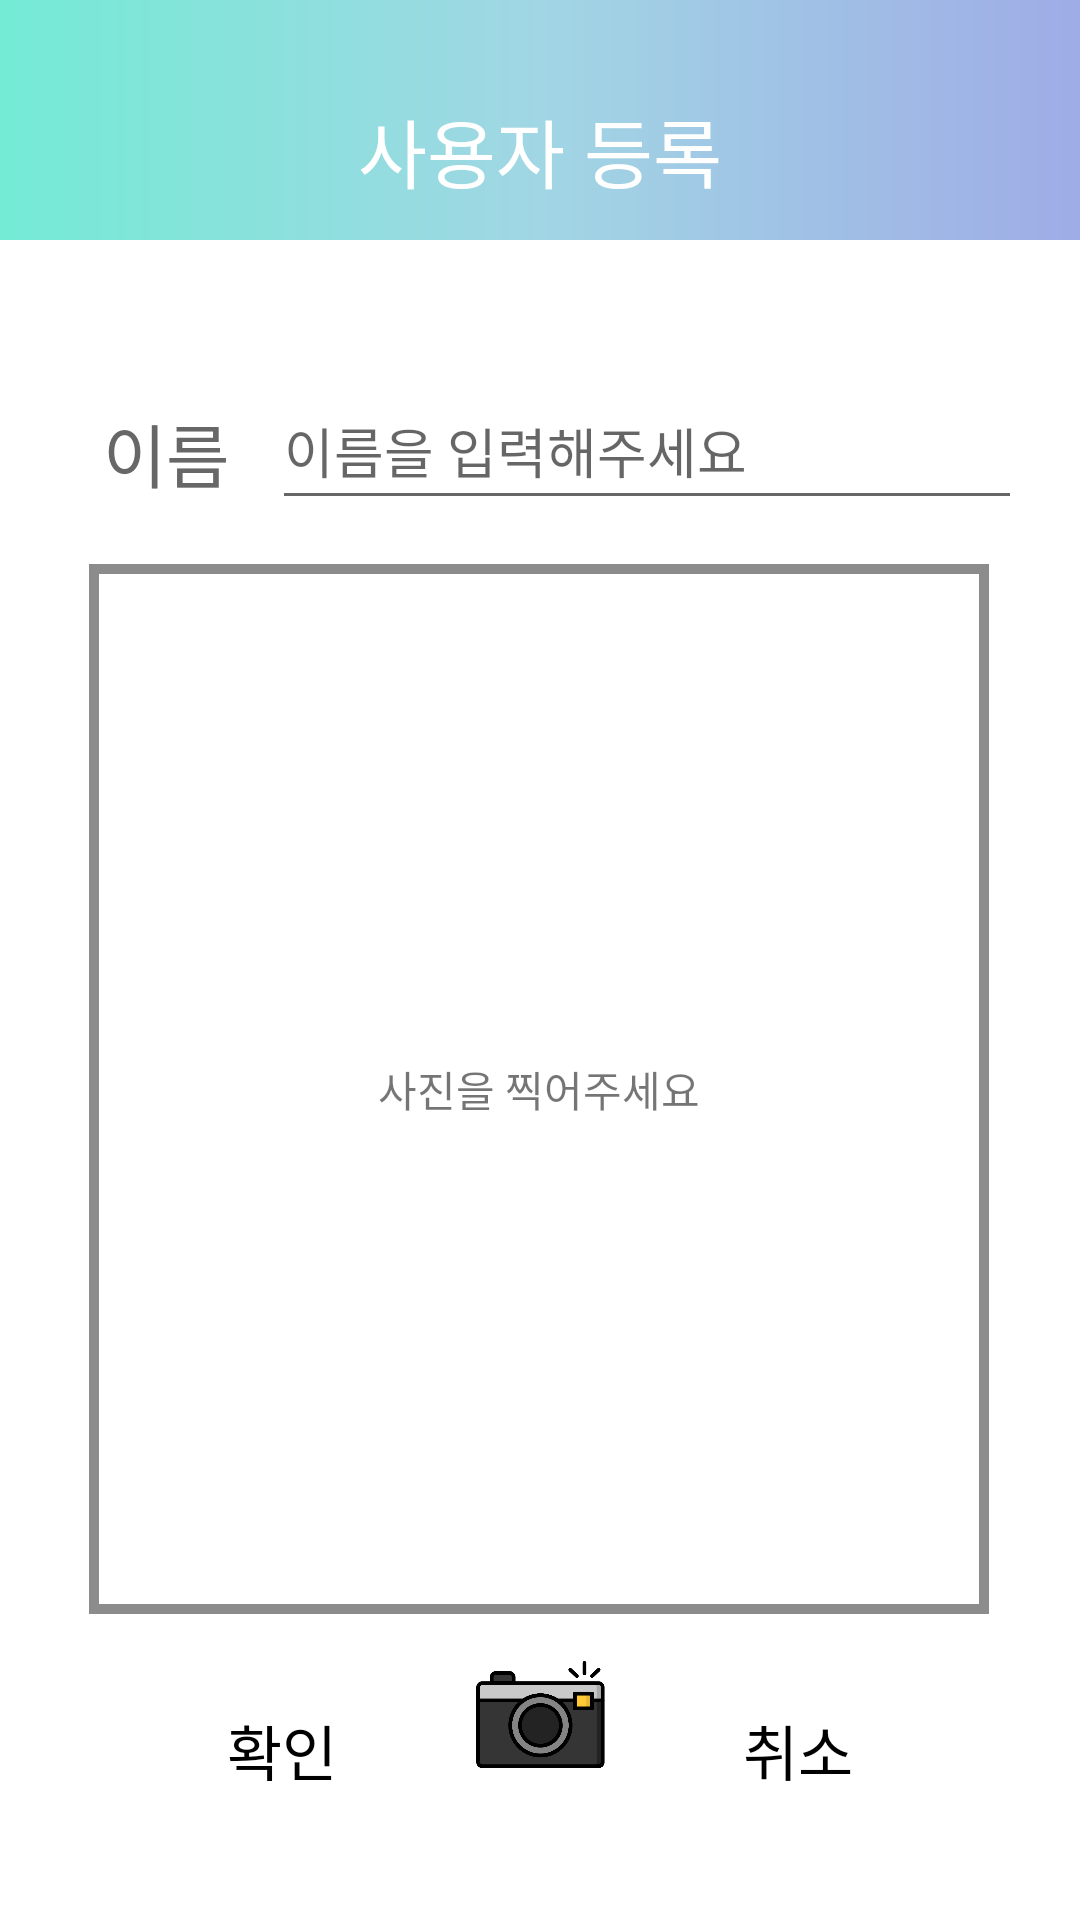

Locate icon controls on the screen. Image size 1080×1920, boxes as (x1=x1, y1=y1, x2=x2, y2=y2).
camera: (x1=476, y1=1661, x2=605, y2=1768)
